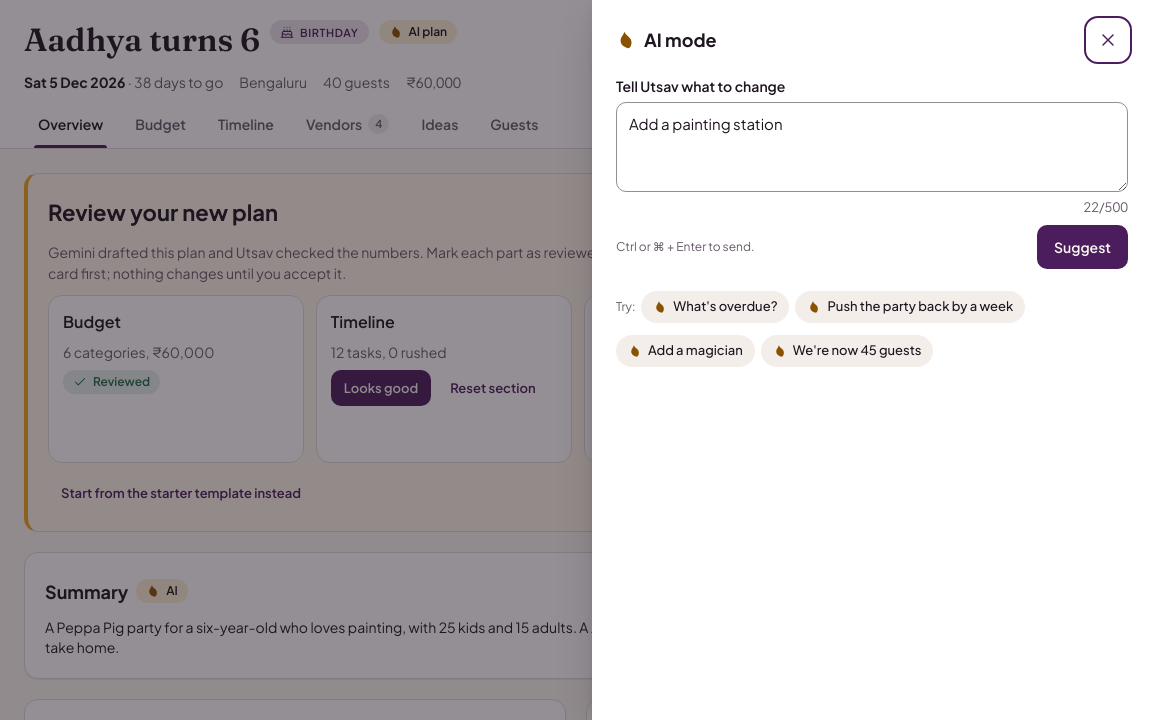
Review your new plan (spec 6.2) › dismisses the banner, reopens it from the event menu and starts from the template
Expected: the text box labelled "Tell Utsav what to change" holds "Add a painting station", [616, 102, 1128, 192]
Click the button named "Close AI mode": [1108, 40] box [1088, 20, 1128, 60]
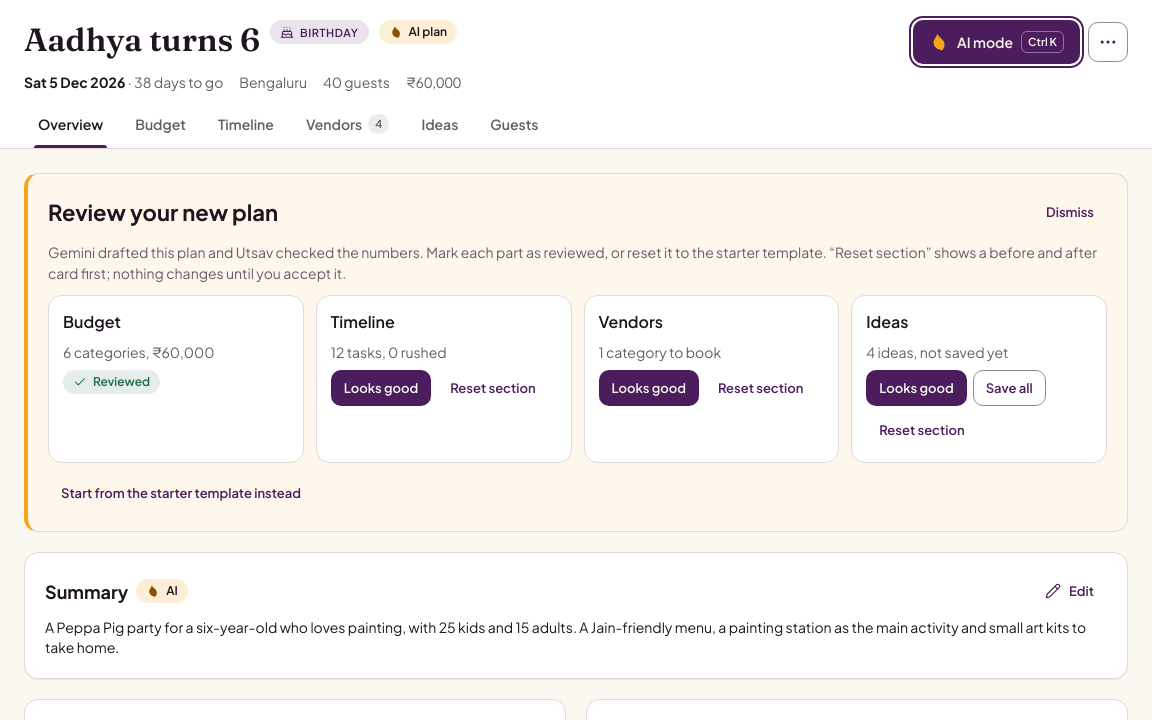
Click the button "Dismiss": [1070, 212] box [1033, 194, 1107, 230]
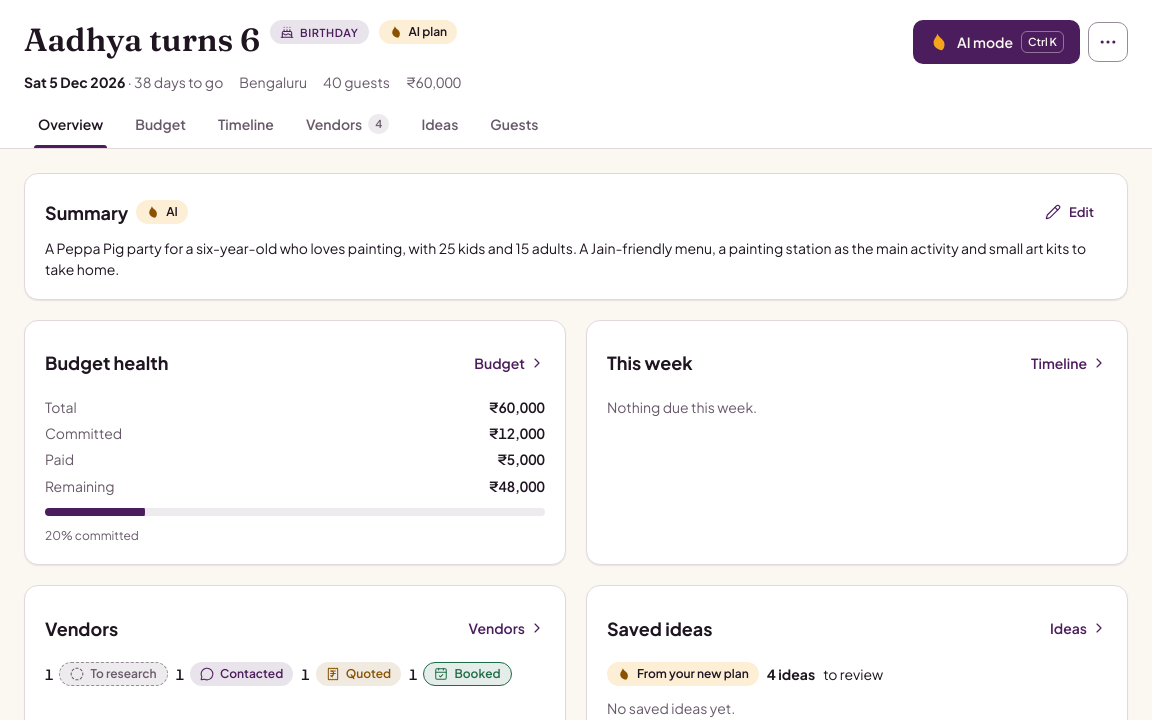
Result: the heading "Review your new plan" is gone
Click the button named "Event menu": [1108, 42] box [1088, 22, 1128, 62]
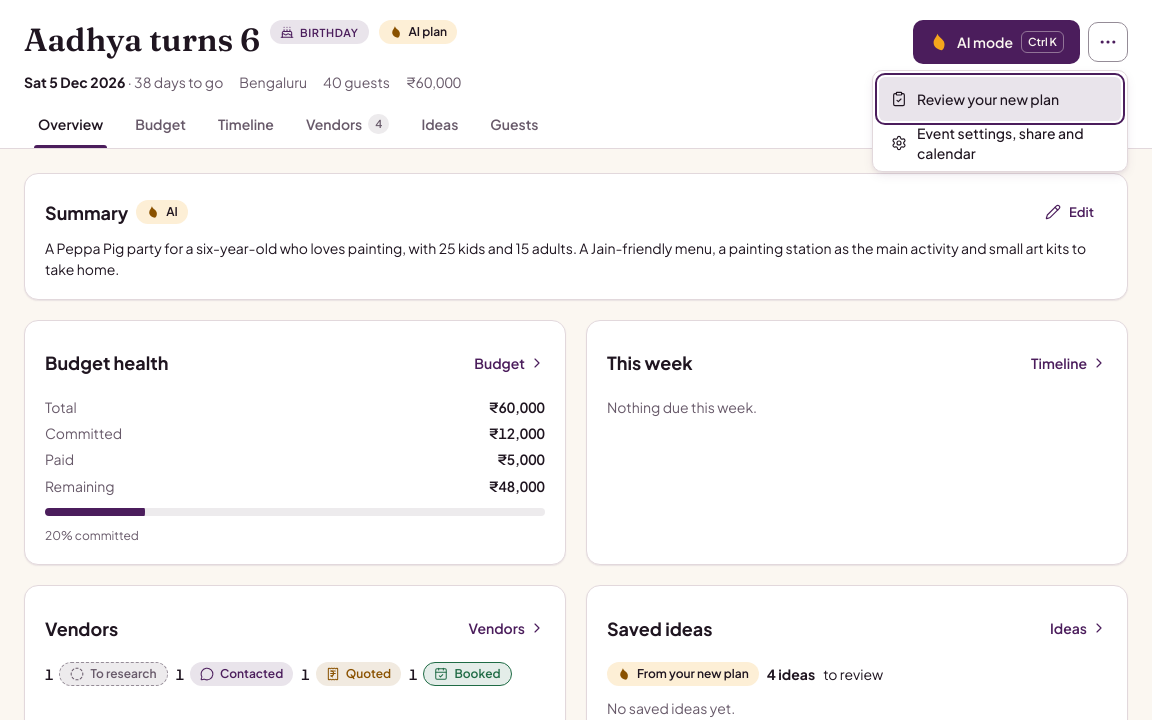
Click the menu item "Review your new plan": [1000, 99] box [879, 77, 1121, 121]
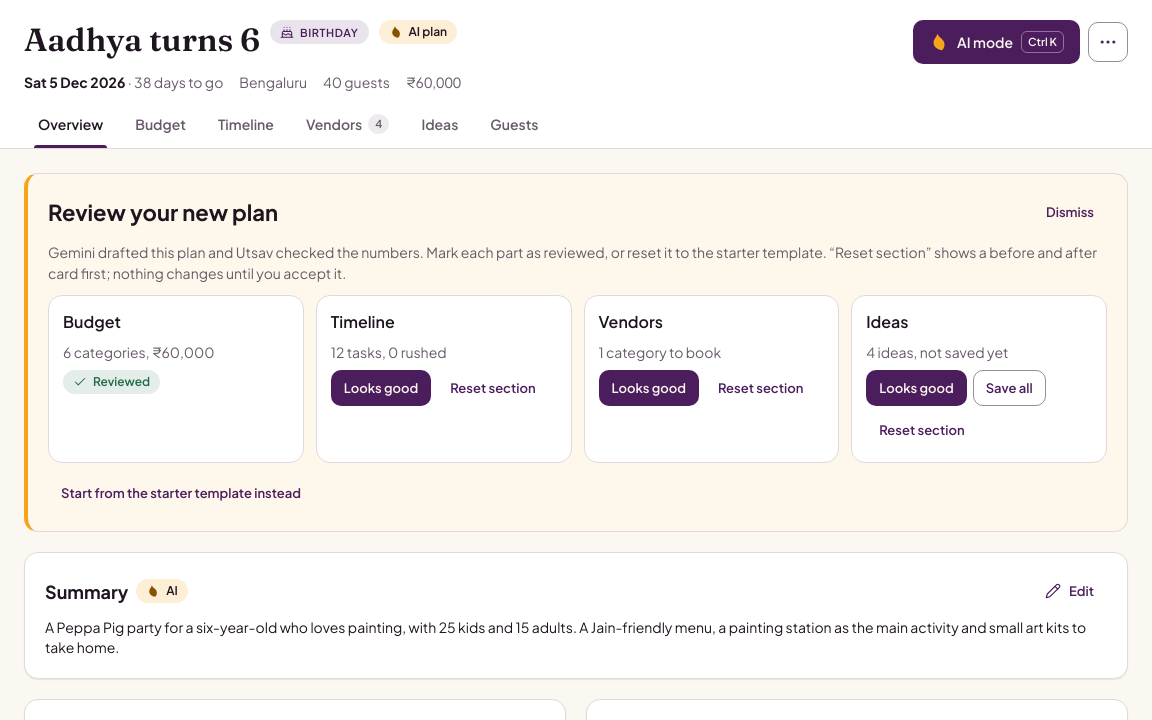
Click the button "Start from the starter template instead": [181, 493] box [48, 475, 314, 511]
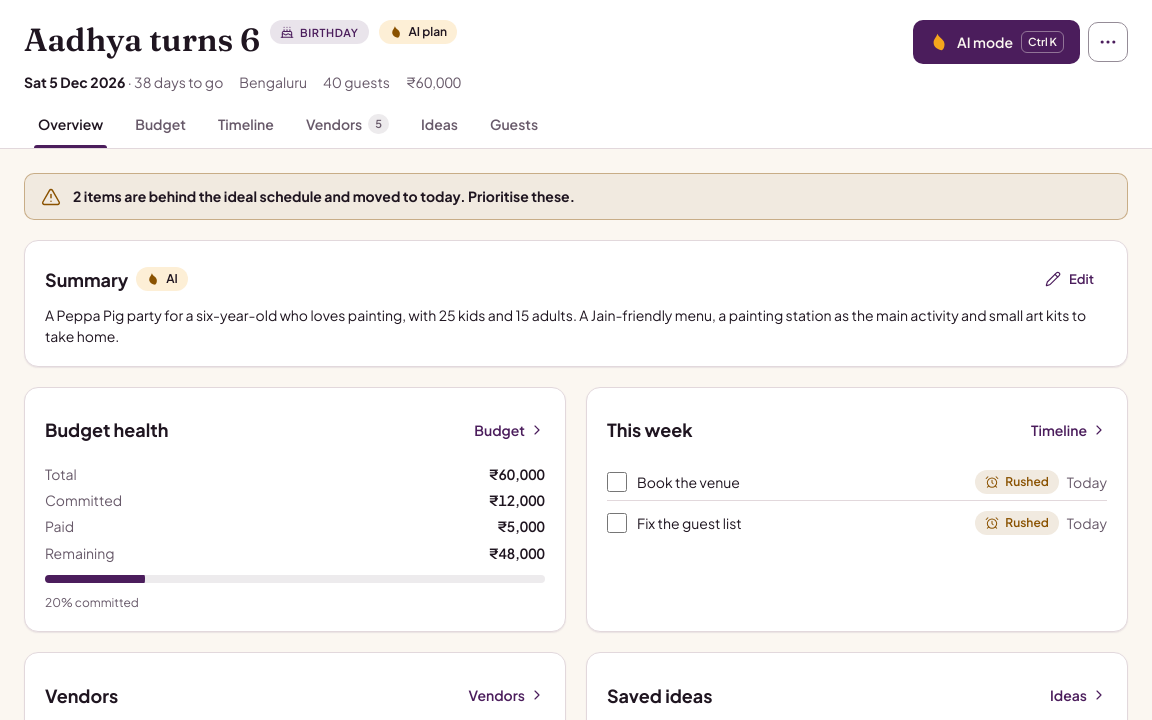
Result: the heading "Review your new plan" is gone
